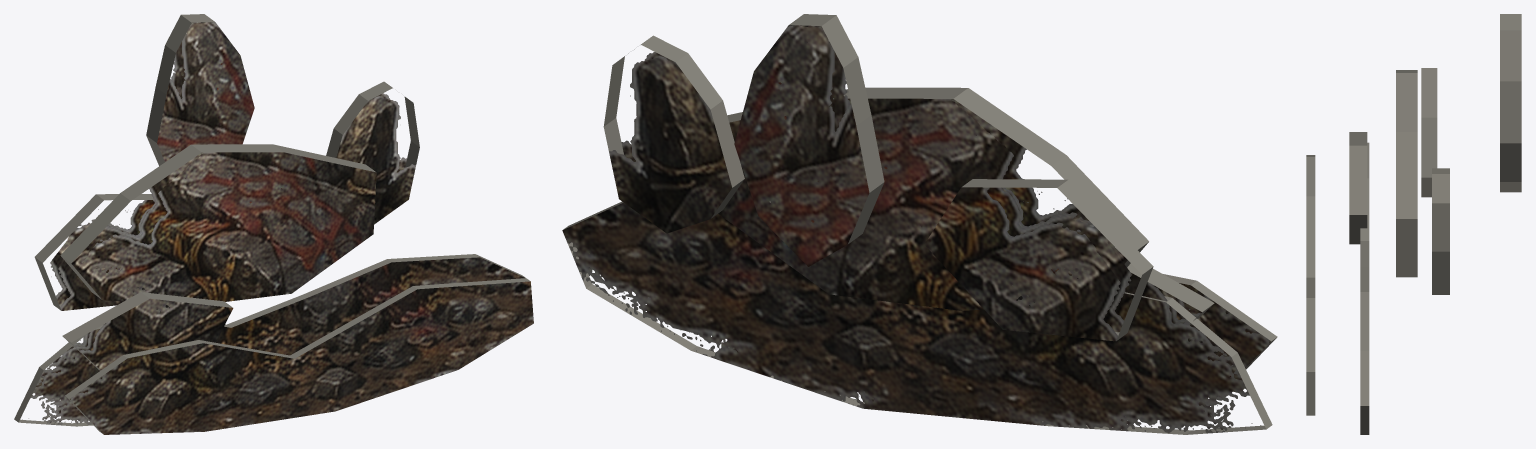
File: SM_GIA_BloodAxeCairnSlabCluster_A01_ImageRelief_LOD0.fbx
The picture shows the model from 3 angles, left to right: view 1: azimuth 30°, elevation 25°; view 2: azimuth 150°, elevation 25°; view 3: azimuth 270°, elevation 25°; orthographic projection. The views are drawn at different scales.
Visible parts, largest first — view 1: A1_ImageRelief_MainPaintedSlab_LOD0, A1_ImageRelief_FrontPebbleRubble_LOD0, A1_ImageRelief_GroundRubbleApron_LOD0, A1_ImageRelief_RearTallSlab_LOD0, A1_ImageRelief_LeftStoneStackFront_LOD0, A1_ImageRelief_RightUpright_LOD0, A1_ImageRelief_LeftStoneStackBack_LOD0; view 2: A1_ImageRelief_GroundRubbleApron_LOD0, A1_ImageRelief_MainPaintedSlab_LOD0, A1_ImageRelief_RearTallSlab_LOD0, A1_ImageRelief_LeftStoneStackBack_LOD0, A1_ImageRelief_RightUpright_LOD0, A1_ImageRelief_FrontPebbleRubble_LOD0, A1_ImageRelief_LeftStoneStackFront_LOD0; view 3: A1_ImageRelief_MainPaintedSlab_LOD0, A1_ImageRelief_RearTallSlab_LOD0, A1_ImageRelief_FrontPebbleRubble_LOD0, A1_ImageRelief_GroundRubbleApron_LOD0, A1_ImageRelief_RightUpright_LOD0, A1_ImageRelief_LeftStoneStackBack_LOD0, A1_ImageRelief_LeftStoneStackFront_LOD0.
Part boxes in pixels (<box>): A1_ImageRelief_MainPaintedSlab_LOD0: <box>60,144,376,301</box>; A1_ImageRelief_FrontPebbleRubble_LOD0: <box>65,278,533,434</box>; A1_ImageRelief_GroundRubbleApron_LOD0: <box>14,254,525,426</box>; A1_ImageRelief_RearTallSlab_LOD0: <box>146,14,254,165</box>; A1_ImageRelief_LeftStoneStackFront_LOD0: <box>62,292,233,370</box>; A1_ImageRelief_RightUpright_LOD0: <box>326,81,419,224</box>; A1_ImageRelief_LeftStoneStackBack_LOD0: <box>34,194,156,310</box>; A1_ImageRelief_GroundRubbleApron_LOD0: <box>562,201,1272,434</box>; A1_ImageRelief_MainPaintedSlab_LOD0: <box>718,87,1148,310</box>; A1_ImageRelief_RearTallSlab_LOD0: <box>734,14,884,266</box>; A1_ImageRelief_LeftStoneStackBack_LOD0: <box>924,179,1153,341</box>; A1_ImageRelief_RightUpright_LOD0: <box>603,35,744,233</box>; A1_ImageRelief_FrontPebbleRubble_LOD0: <box>1163,274,1277,369</box>; A1_ImageRelief_LeftStoneStackFront_LOD0: <box>1125,263,1214,324</box>; A1_ImageRelief_MainPaintedSlab_LOD0: <box>1396,70,1417,277</box>; A1_ImageRelief_RearTallSlab_LOD0: <box>1500,14,1521,192</box>; A1_ImageRelief_FrontPebbleRubble_LOD0: <box>1306,155,1315,415</box>; A1_ImageRelief_GroundRubbleApron_LOD0: <box>1360,142,1369,434</box>; A1_ImageRelief_RightUpright_LOD0: <box>1432,168,1449,294</box>; A1_ImageRelief_LeftStoneStackBack_LOD0: <box>1421,68,1437,197</box>; A1_ImageRelief_LeftStoneStackFront_LOD0: <box>1349,132,1367,244</box>.
Size of the model in its own units: 12000 by 32300 by 20900.
